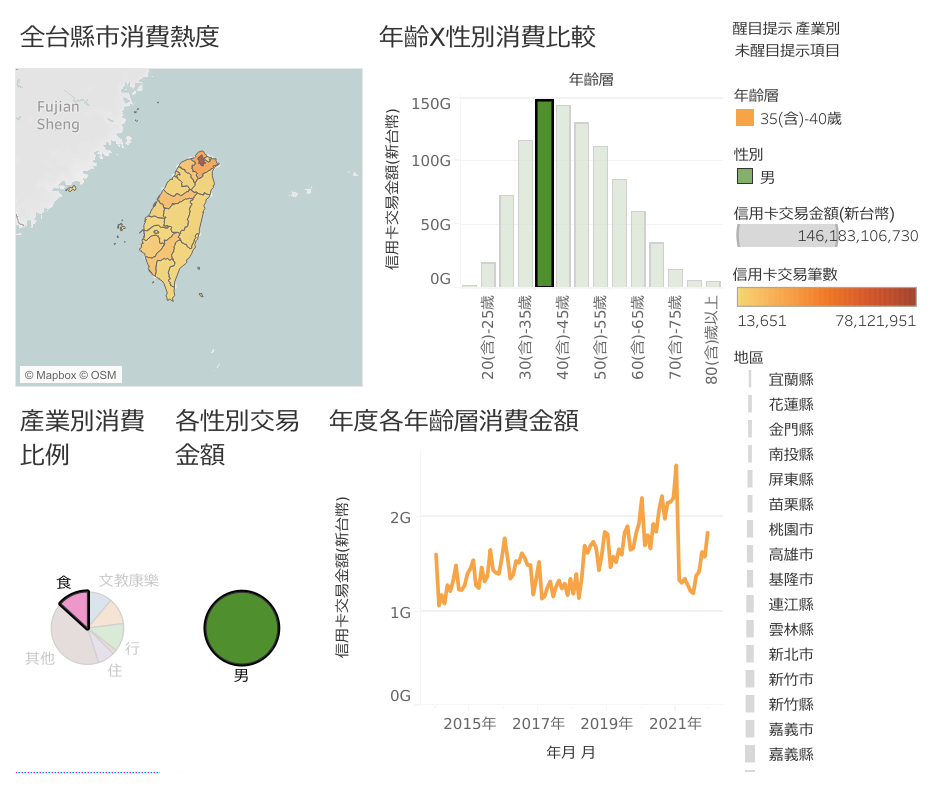

The page's visual inventory and layout, read from the dashboard file:
{"tool":"tableau","page":{"name":"儀表板窗格 1","canvas":[1000,1000],"units":"permille","ordinal":0},"visuals":[{"type":"worksheet","title":"全台縣市消費熱度","mark":"Multipolygon","box":[4.8,9.4,446.9,490.6]},{"type":"worksheet","title":"年齡X性別消費比較","mark":"Automatic","rows":["信用卡交易金額(新台幣)"],"cols":["年齡層"],"box":[451.7,9.4,446.9,490.6]},{"type":"highlighter","title":"產業別消費比例","param":"[federated.0g2oetc1v2s88r16os5ns0wi0wuw].[none:產業別:nk]","box":[898.6,9.4,96.6,65.7]},{"type":"legend","title":"年度各年齡層消費金額","param":"[federated.0g2oetc1v2s88r16os5ns0wi0wuw].[none:年齡層:nk]","box":[898.6,75.1,96.6,342.7]},{"type":"legend","title":"年齡X性別消費比較","param":"[federated.0g2oetc1v2s88r16os5ns0wi0wuw].[none:性別:nk]","box":[898.6,417.8,96.6,84.5]},{"type":"worksheet","title":"產業別消費比例","mark":"Pie","box":[4.8,500,192.8,490.6]},{"type":"worksheet","title":"各性別交易金額","mark":"Pie","box":[197.6,500,192.2,490.6]},{"type":"worksheet","title":"年度各年齡層消費金額","mark":"Automatic","rows":["信用卡交易金額(新台幣)"],"cols":["年月"],"box":[389.8,500,508.8,490.6]},{"type":"legend","title":"各性別交易金額","param":"[federated.0g2oetc1v2s88r16os5ns0wi0wuw].[sum:信用卡交易金額(新台幣):qk]","box":[898.6,502.4,96.6,59.9]},{"type":"legend","title":"全台縣市消費熱度","param":"[federated.0g2oetc1v2s88r16os5ns0wi0wuw].[sum:信用卡交易金額(新台幣):qk]","box":[898.6,562.2,96.6,85.7]},{"type":"legend","title":"全台縣市消費熱度","param":"[federated.0g2oetc1v2s88r16os5ns0wi0wuw].[none:地區:nk]","box":[898.6,647.9,96.6,342.7]}]}

Visuals, with their boxes on the dashboard's canvas, which has no fixed pixel size, in thousandths of its width and height (x1, y1, x2, y2). These are canvas units, not pixel positions in the 936x785 screenshot, which may show the page scaled, cropped or inside an application window:
"全台縣市消費熱度" worksheet (Multipolygon marks): (5,9,452,500)
"年齡X性別消費比較" worksheet: (452,9,899,500)
"產業別消費比例" highlighter: (899,9,995,75)
"年度各年齡層消費金額" legend: (899,75,995,418)
"年齡X性別消費比較" legend: (899,418,995,502)
"產業別消費比例" worksheet (Pie marks): (5,500,198,991)
"各性別交易金額" worksheet (Pie marks): (198,500,390,991)
"年度各年齡層消費金額" worksheet: (390,500,899,991)
"各性別交易金額" legend: (899,502,995,562)
"全台縣市消費熱度" legend: (899,562,995,648)
"全台縣市消費熱度" legend: (899,648,995,991)
